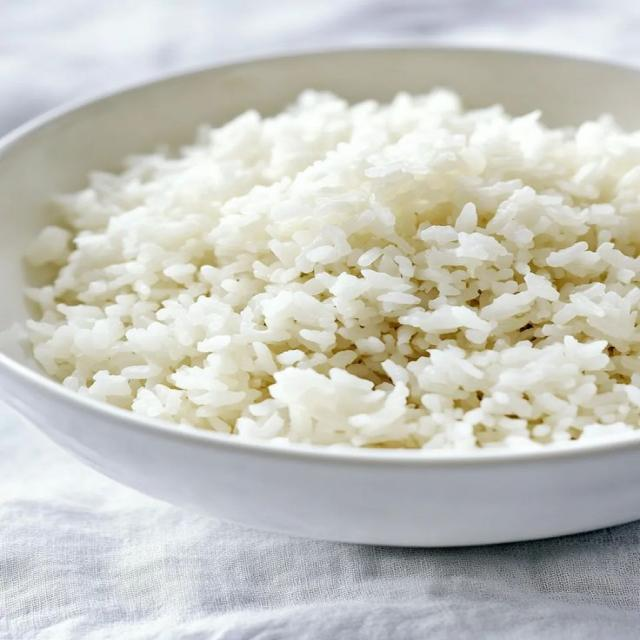rice: (29, 92, 639, 449)
